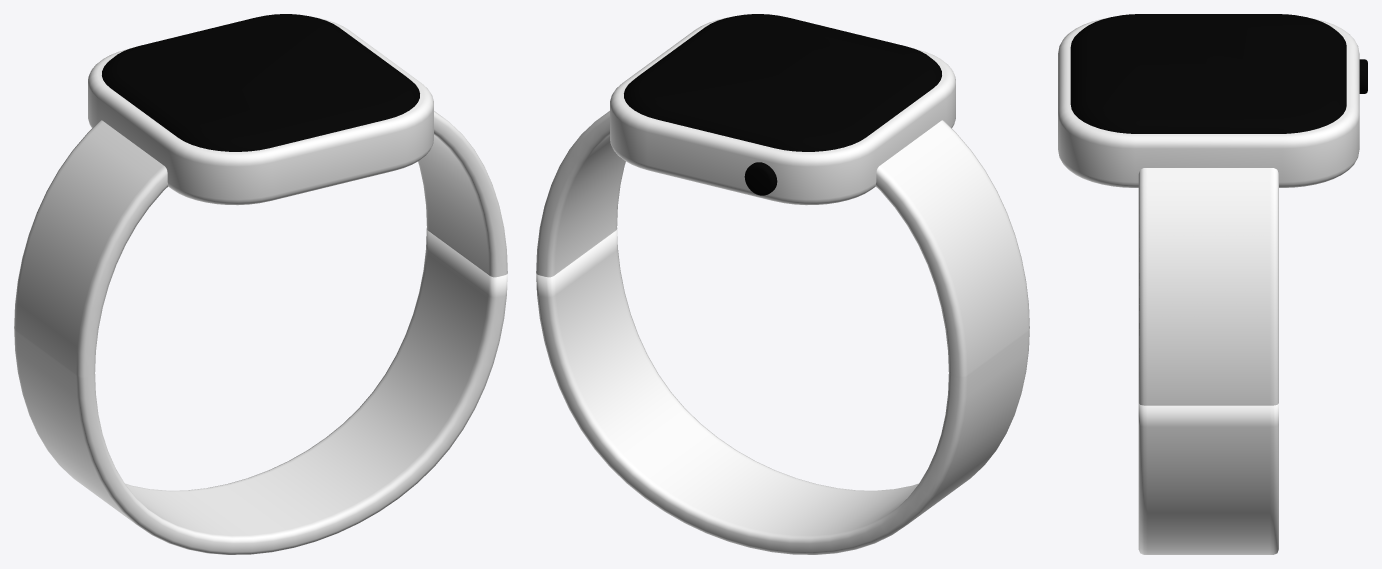
Rendered from AppleWatch.fbx.
The picture shows the model from 3 angles, left to right: view 1: azimuth 30°, elevation 25°; view 2: azimuth 150°, elevation 25°; view 3: azimuth 270°, elevation 25°; orthographic projection. The views are drawn at different scales.
Parts seen in each view (by area): view 1: Front, Back; view 2: Front, Back; view 3: Front, Back.
Boxes of the visible parts, <box> form: Front: <box>14,14,507,377</box>; Back: <box>14,229,507,554</box>; Front: <box>536,14,1029,377</box>; Back: <box>536,229,1029,554</box>; Front: <box>1058,14,1367,405</box>; Back: <box>1138,403,1278,554</box>.
Bounding box in the file's own units: 3.37 × 3.37 × 2.06.
